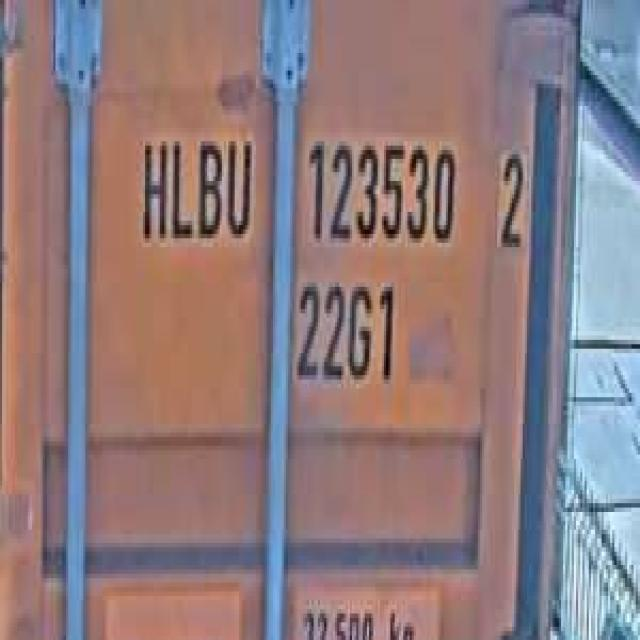dv: (491, 137, 531, 256)
owner: (137, 119, 256, 256)
serial: (298, 119, 461, 256)
size: (290, 269, 399, 397)
